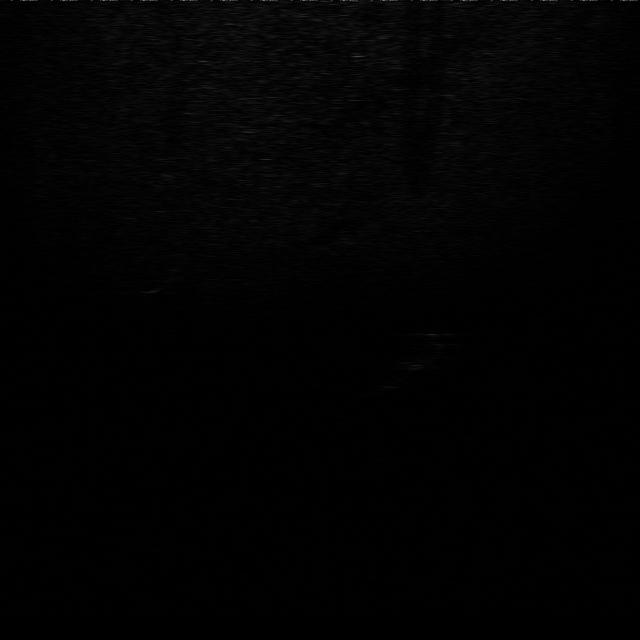tyre: (394, 320, 466, 374)
